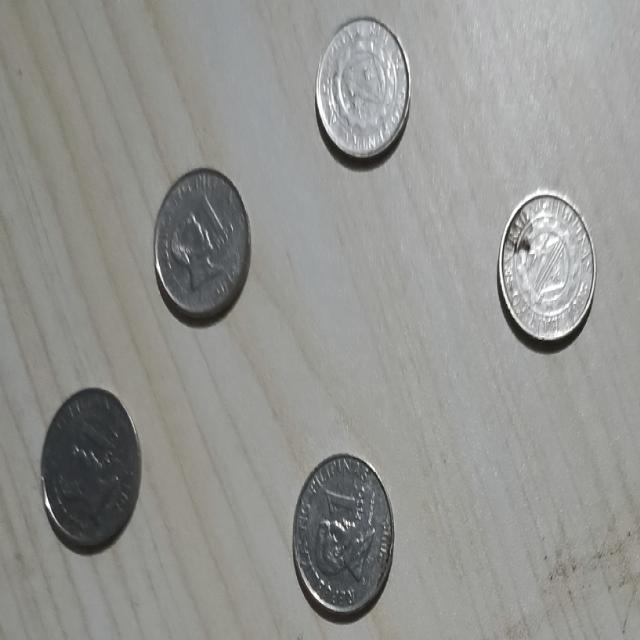1_peso: (293, 454, 393, 616), (42, 389, 140, 549), (498, 192, 595, 341), (156, 168, 250, 314), (316, 18, 410, 159)
